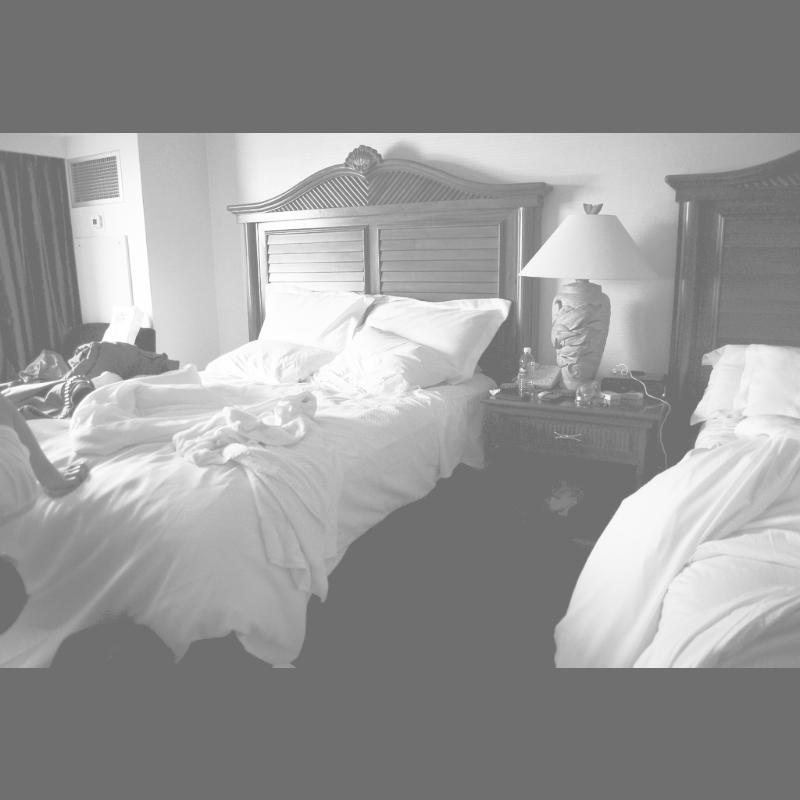pillow: (348, 292, 510, 382), (255, 279, 377, 347), (731, 340, 799, 438), (688, 353, 752, 442), (334, 319, 420, 385), (200, 334, 334, 376)
